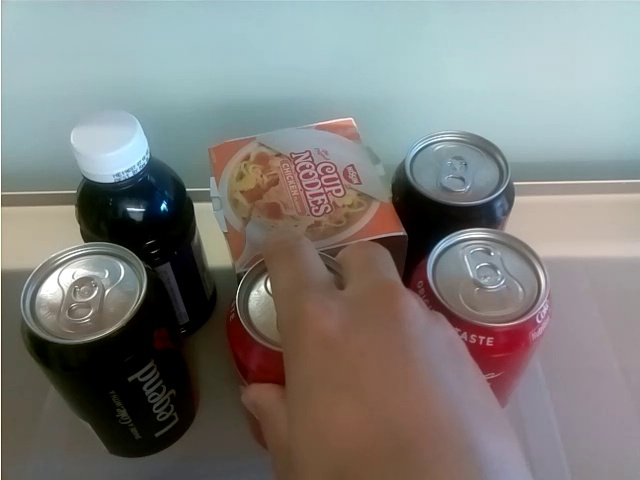cocacola: (19, 239, 202, 460), (222, 254, 351, 461), (409, 229, 551, 411), (391, 128, 520, 234)
hand: (240, 233, 526, 480)
juice: (71, 109, 220, 334)
noodles: (208, 115, 407, 281)
